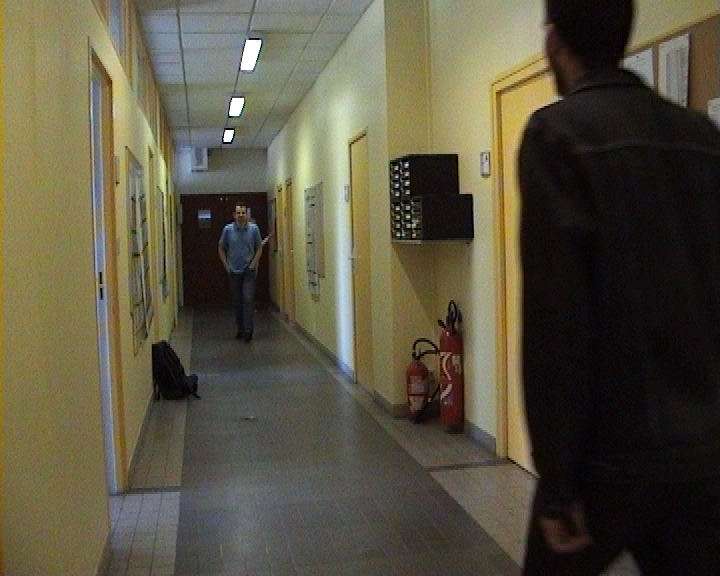leave bag unattended: (128, 312, 228, 431)
